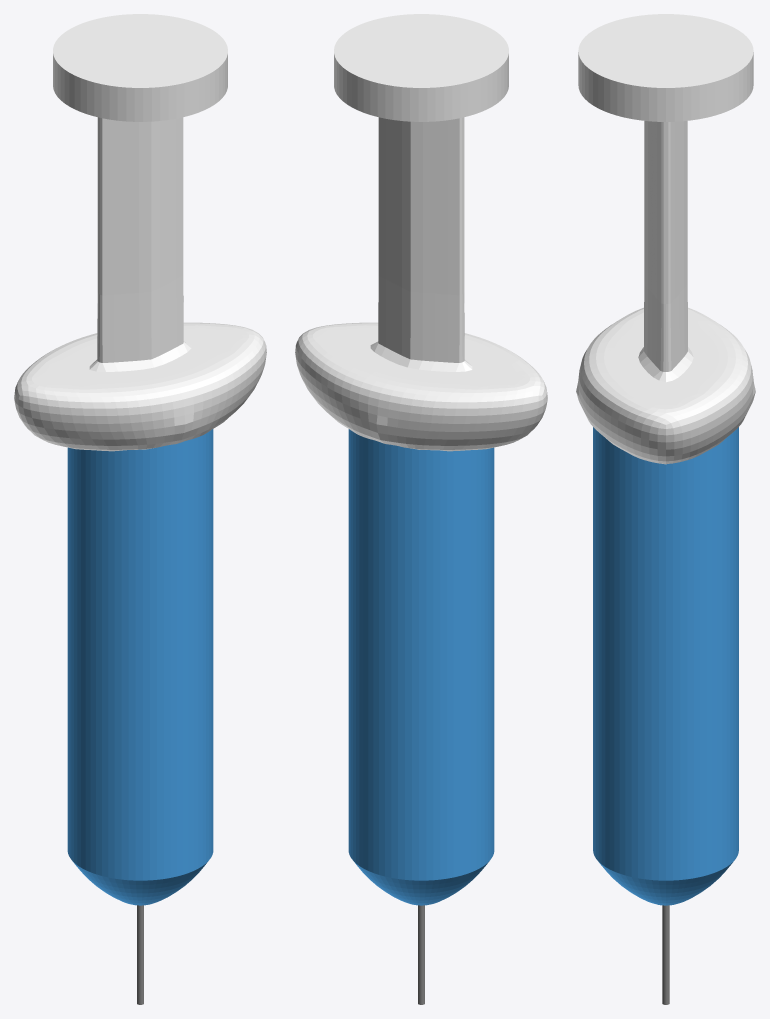
The model's file is Syringe.fbx.
3 views of the same model, side by side, from view 1: azimuth 30°, elevation 25°; view 2: azimuth 150°, elevation 25°; view 3: azimuth 270°, elevation 25° (orthographic).
Visible parts, largest first — view 1: Syringe, Handle, Cylinder, Needle; view 2: Syringe, Handle, Cylinder, Needle; view 3: Syringe, Handle, Cylinder, Needle.
Boxes of the visible parts, box(x1,y1,x2,y2) form: Syringe: box(67, 429, 213, 905); Handle: box(14, 117, 266, 451); Cylinder: box(53, 14, 227, 121); Needle: box(137, 905, 143, 1004); Syringe: box(348, 429, 494, 905); Handle: box(295, 117, 547, 451); Cylinder: box(334, 14, 508, 121); Needle: box(418, 905, 424, 1004); Syringe: box(593, 427, 738, 905); Handle: box(576, 121, 755, 464); Cylinder: box(578, 14, 753, 121); Needle: box(662, 905, 669, 1004).
Size of the model in its own units: 3.77 by 14.03 by 2.4.
